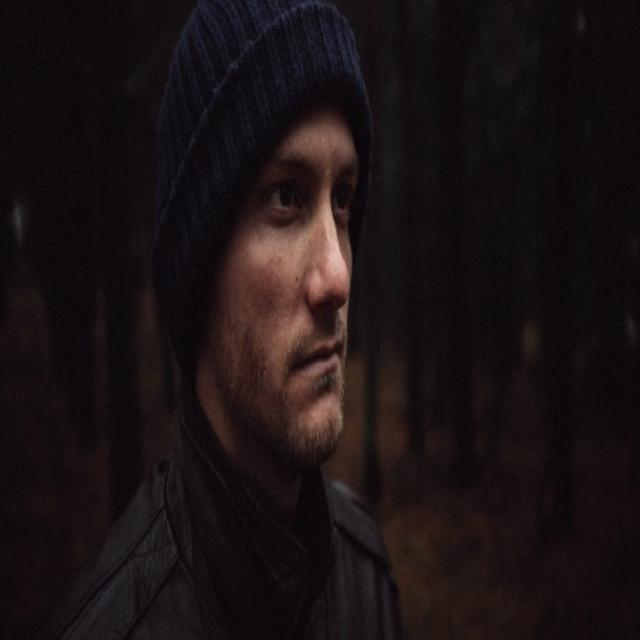No_Goggles: (237, 147, 358, 241)
No_Helmet: (188, 2, 371, 143)
